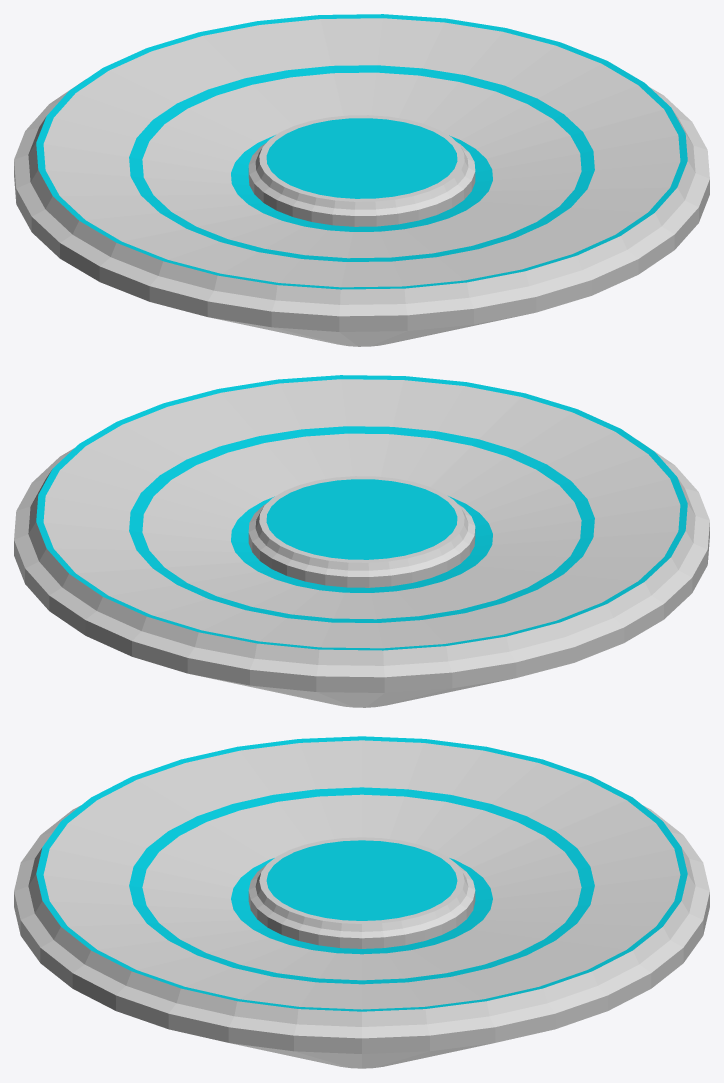
File: captureBallSpawner.fbx
3 renders of one model, top to bottom at view 1: azimuth 30°, elevation 25°; view 2: azimuth 150°, elevation 25°; view 3: azimuth 270°, elevation 25°, orthographic.
Visible parts, largest first — view 1: Cylinder; view 2: Cylinder; view 3: Cylinder.
Part boxes in pixels (left/top/right/bottom): Cylinder: left=14, top=14, right=709, bottom=346; Cylinder: left=14, top=375, right=709, bottom=707; Cylinder: left=14, top=736, right=709, bottom=1068.
Bounding box in the file's own units: 200 × 54.31 × 200.
